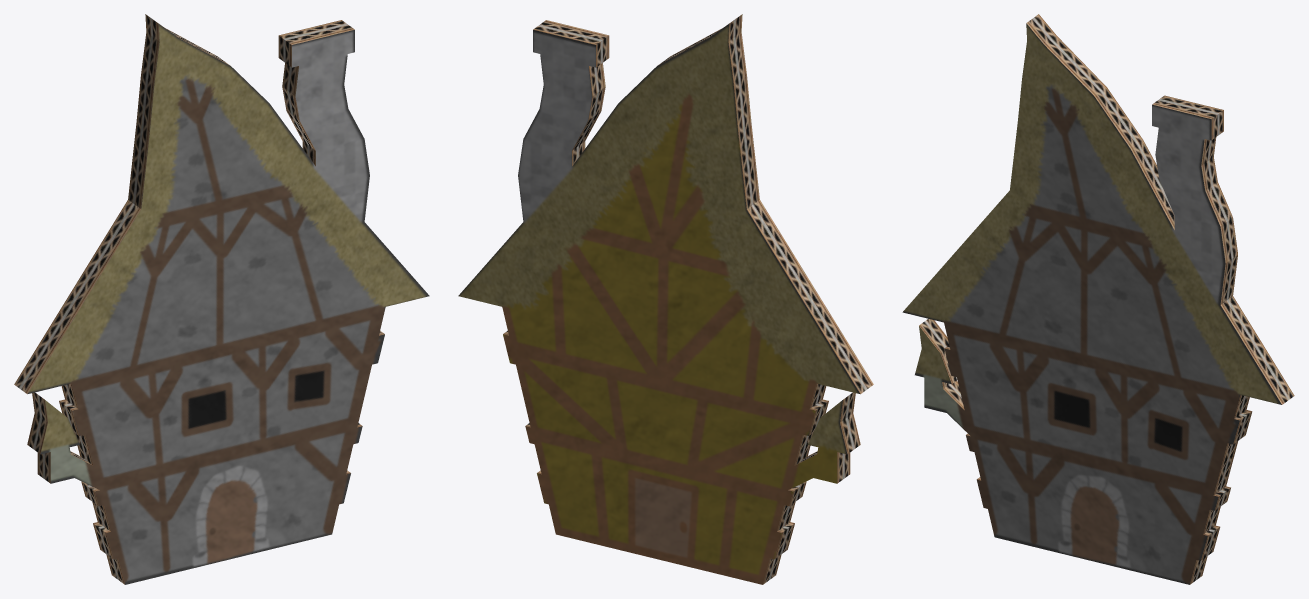
File: Niv 1 House 1.fbx
3 views of the same model, side by side, from view 1: azimuth 30°, elevation 25°; view 2: azimuth 150°, elevation 25°; view 3: azimuth 330°, elevation 25° (orthographic). The views are drawn at different scales.
Visible parts, largest first — view 1: maison 1; view 2: maison 1; view 3: maison 1.
Boxes of the visible parts, x1=… form: maison 1: x1=14, y1=14, x2=429, y2=584; maison 1: x1=458, y1=14, x2=873, y2=584; maison 1: x1=902, y1=14, x2=1294, y2=584.
Size of the model in its own units: 3889 by 223 by 5106.
